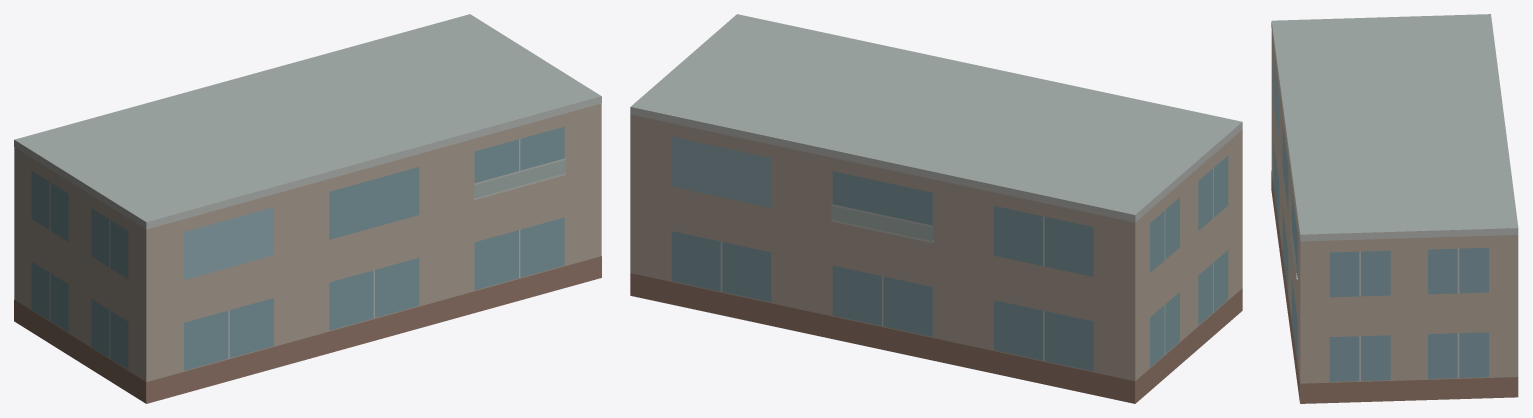
Rendered from survey-upis-32701677.glb.
3 renders of one model, left to right at view 1: azimuth 30°, elevation 25°; view 2: azimuth 150°, elevation 25°; view 3: azimuth 270°, elevation 25°, orthographic. The views are drawn at different scales.
Parts seen in each view (by area): view 1: survey-upis-32701677.tmp; view 2: survey-upis-32701677.tmp; view 3: survey-upis-32701677.tmp.
Boxes of the visible parts, <box> form: survey-upis-32701677.tmp: <box>14,14,601,403</box>; survey-upis-32701677.tmp: <box>630,14,1242,403</box>; survey-upis-32701677.tmp: <box>1271,14,1518,403</box>.
Size of the model in its own units: 17.07 by 6.1 by 8.08.
